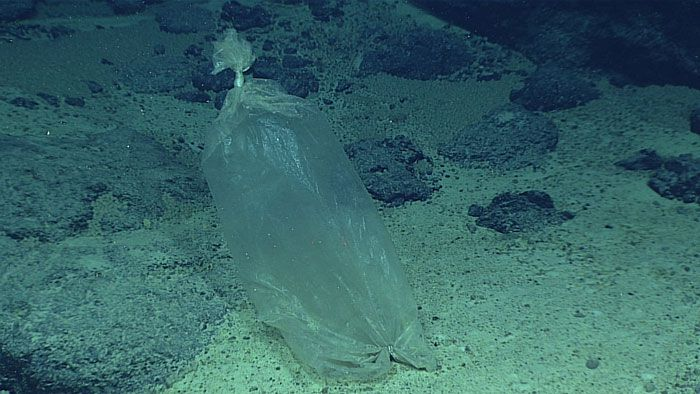litter: (165, 58, 460, 383)
